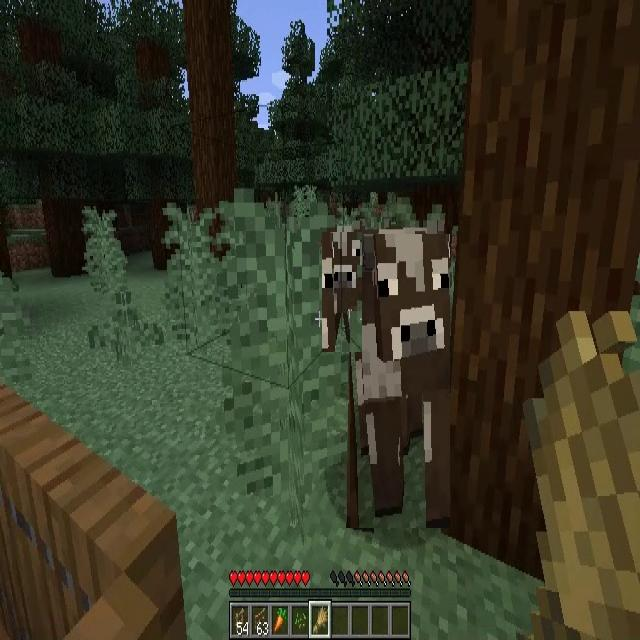cow: (350, 234, 450, 528), (322, 232, 362, 352)
